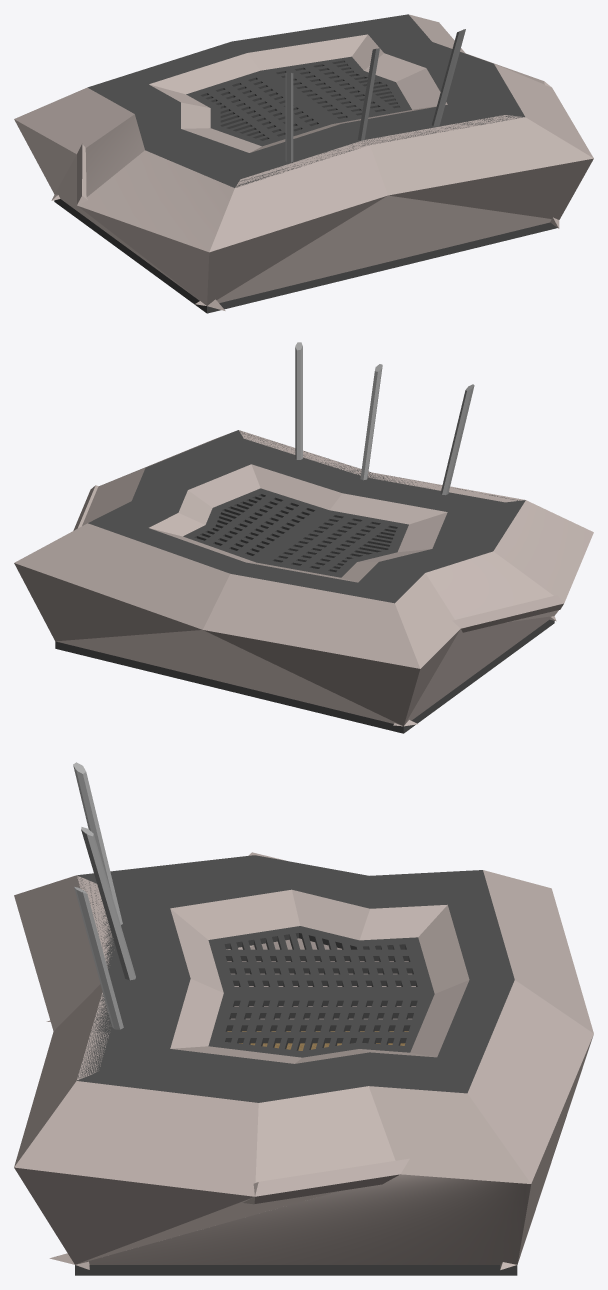
The model's file is router.dae.
3 views of the same model, one above another, from view 1: azimuth 30°, elevation 25°; view 2: azimuth 150°, elevation 25°; view 3: azimuth 270°, elevation 25° (orthographic). The views are drawn at different scales.
Parts seen in each view (by area): view 1: geometry-lumionModel (×4); view 2: geometry-lumionModel (×4); view 3: geometry-lumionModel (×4).
Part boxes in pixels (x1,y1,x2,y2): geometry-lumionModel (×4): [14, 14, 593, 313]; geometry-lumionModel (×4): [14, 342, 593, 733]; geometry-lumionModel (×4): [14, 762, 593, 1275].
Bounding box in the file's own units: 16.51 × 11.99 × 7.32.
6 materials, 1 textured.
